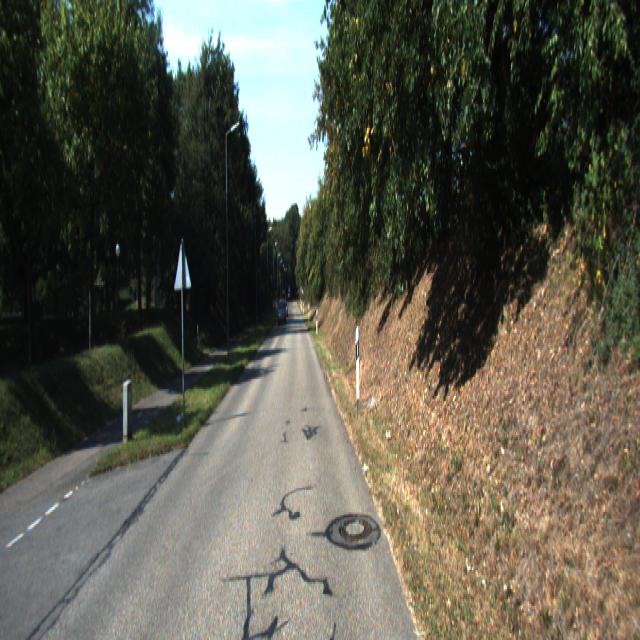Car: (278, 300, 286, 326)
